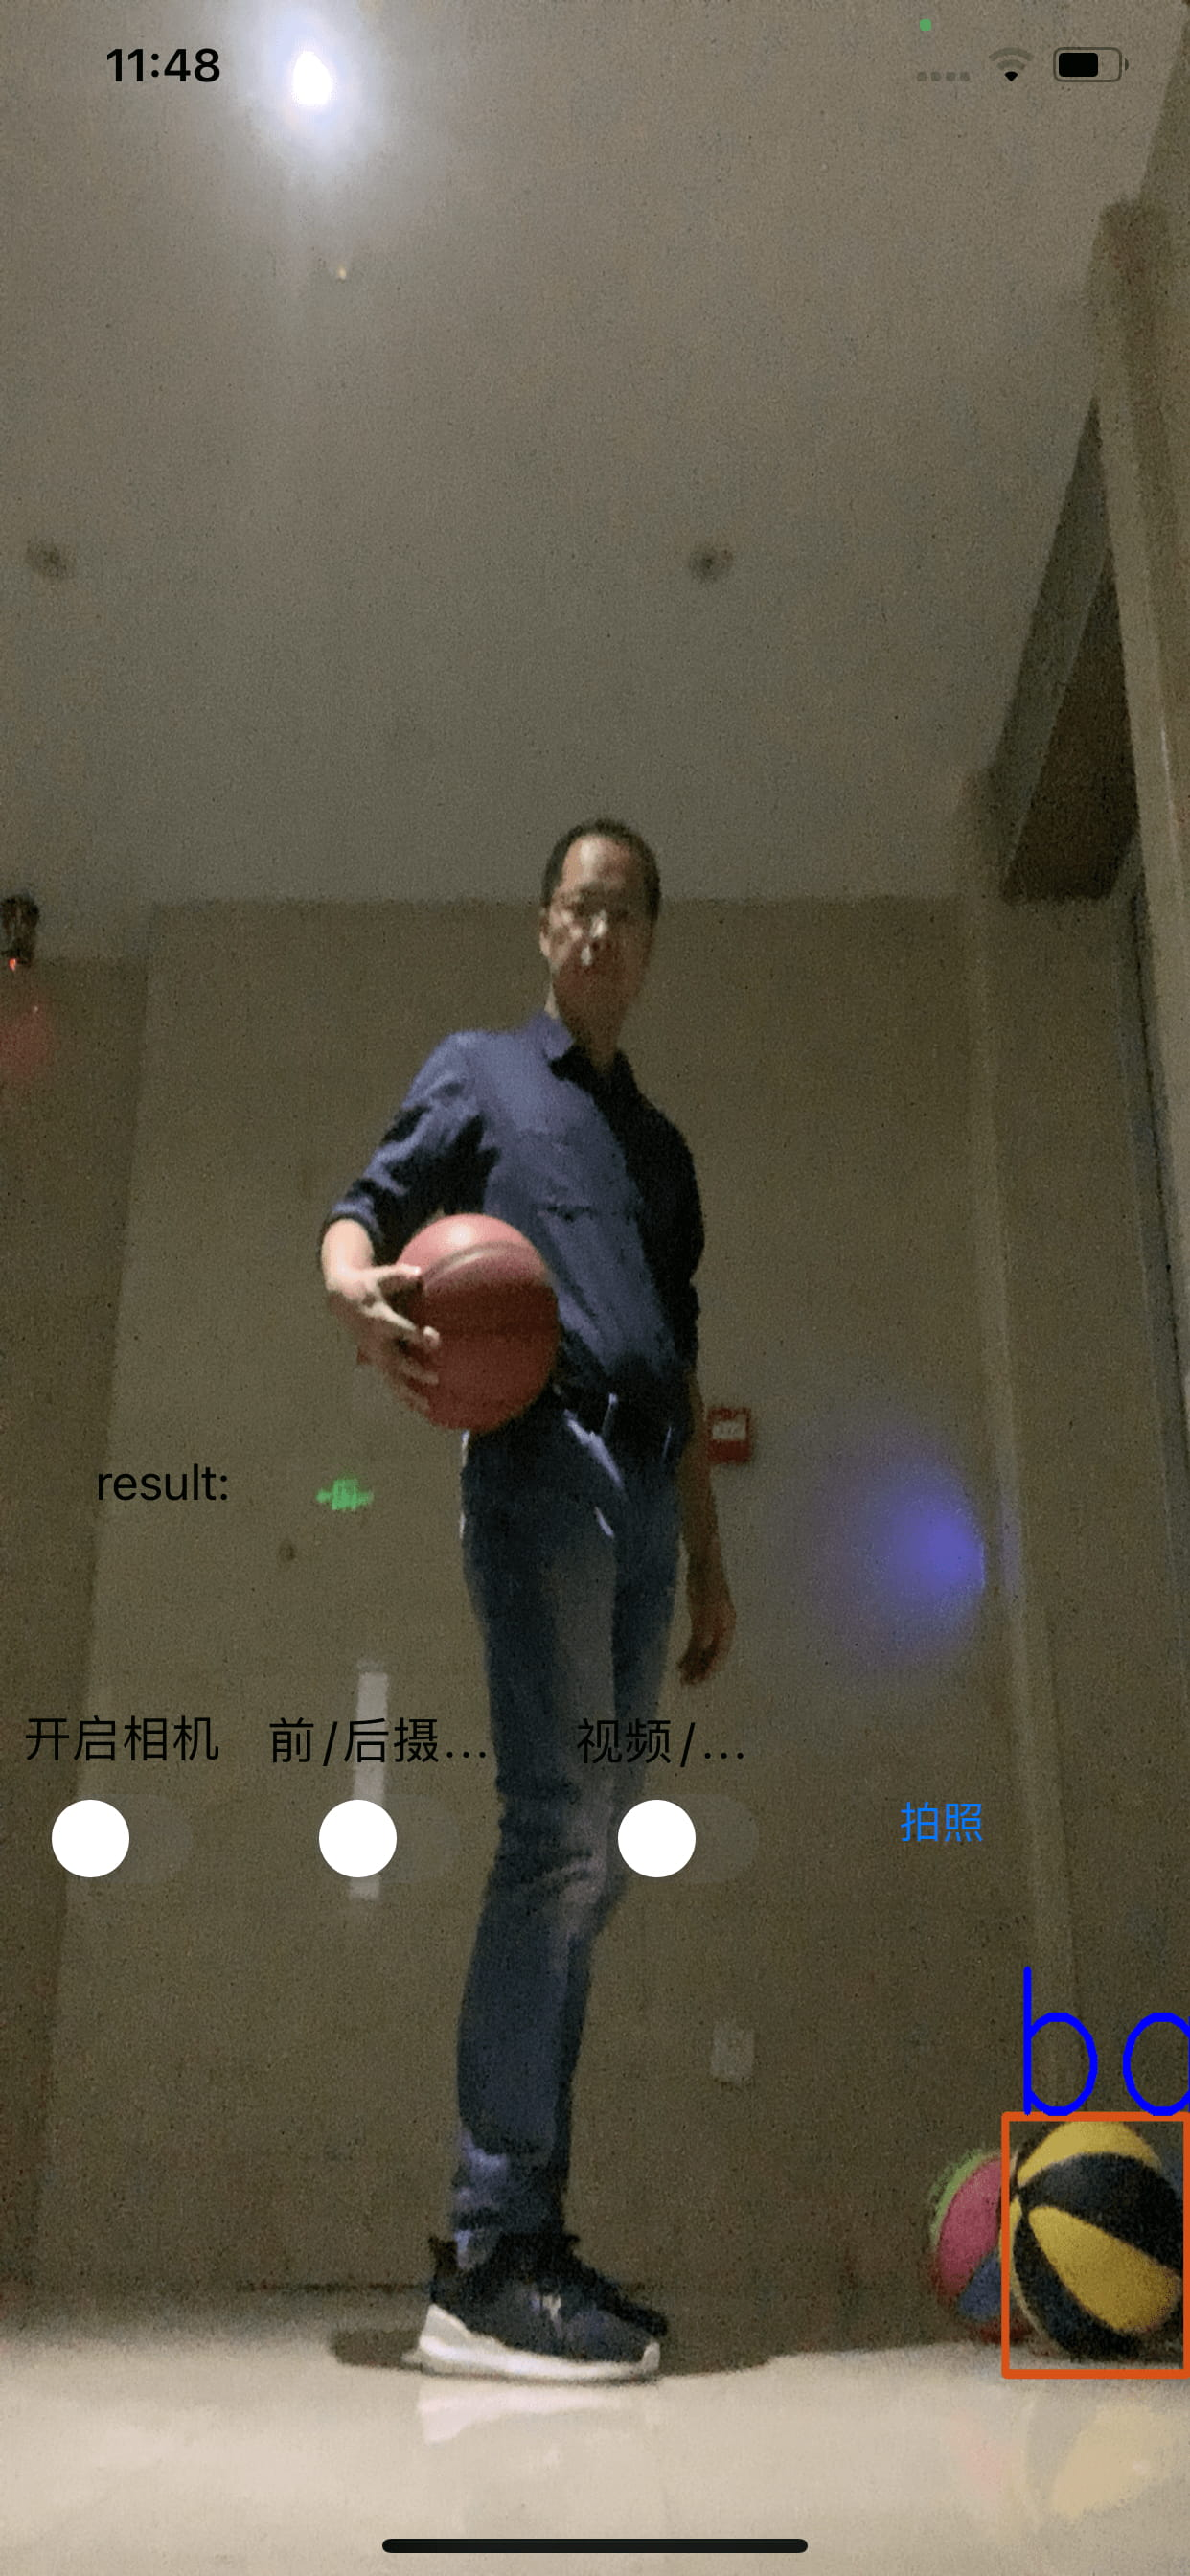ball: (1014, 2114, 1190, 2361), (386, 1207, 562, 1429), (922, 2146, 1031, 2341)
